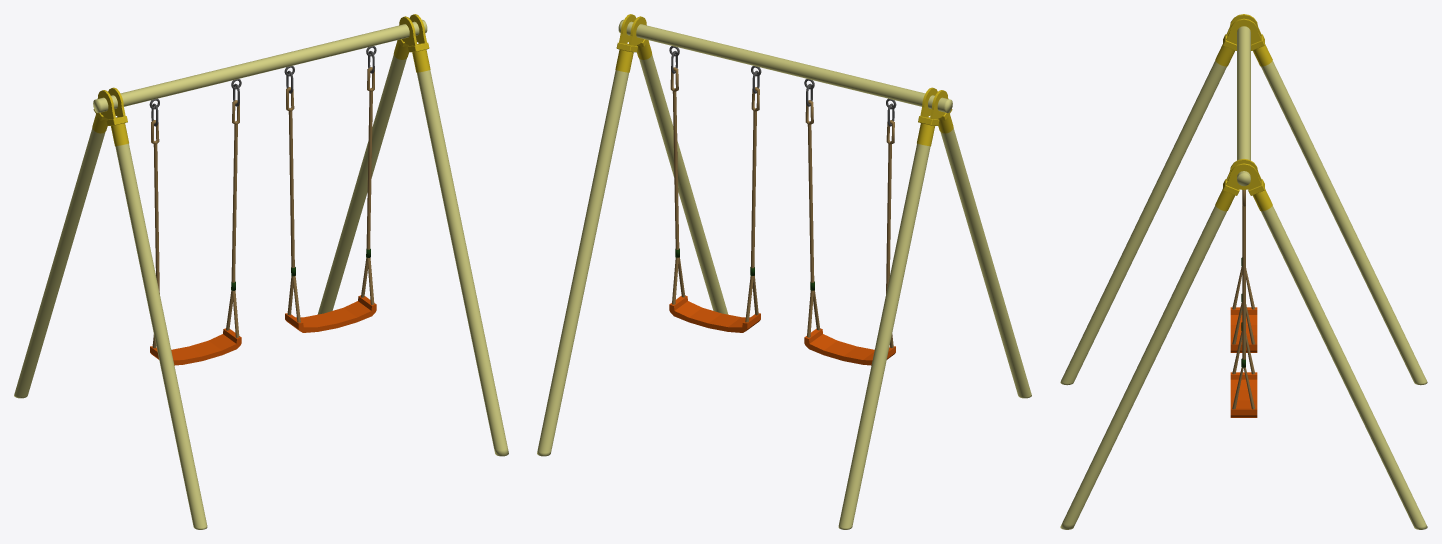
The model's file is swing.obj.
3 renders of one model, left to right at view 1: azimuth 30°, elevation 25°; view 2: azimuth 150°, elevation 25°; view 3: azimuth 270°, elevation 25°, orthographic.
Parts seen in each view (by area): view 1: Cylinder.004_Cylinder.007, Cylinder.001_Cylinder.004, Cylinder.002_Cylinder.005, Cylinder_Cylinder.003, Cylinder.003_Cylinder.006, Cylinder.005_Cylinder.008, Circle.001_Circle.002, Circle.000_Circle.004, Cube.001_Cube.002, Cube_Cube.001; view 2: Cylinder.003_Cylinder.006, Cylinder_Cylinder.003, Cylinder.002_Cylinder.005, Cylinder.001_Cylinder.004, Cylinder.004_Cylinder.007, Cylinder.005_Cylinder.008, Circle.001_Circle.002, Circle.000_Circle.004, Cube.001_Cube.002, Cube_Cube.001; view 3: Cylinder.004_Cylinder.007, Cylinder.003_Cylinder.006, Cylinder.001_Cylinder.004, Cylinder_Cylinder.003, Cylinder.005_Cylinder.008, Cylinder.002_Cylinder.005, Circle.001_Circle.002, Cube.001_Cube.002, Cube_Cube.001, Circle.000_Circle.004.
Boxes of the visible parts, <box> form: Cylinder.004_Cylinder.007: <box>417,70,508,456</box>; Cylinder.001_Cylinder.004: <box>115,143,207,529</box>; Cylinder.002_Cylinder.005: <box>93,19,427,112</box>; Cylinder_Cylinder.003: <box>14,128,105,398</box>; Cylinder.003_Cylinder.006: <box>317,54,406,314</box>; Cylinder.005_Cylinder.008: <box>92,14,430,146</box>; Circle.001_Circle.002: <box>286,67,374,322</box>; Circle.000_Circle.004: <box>151,100,239,348</box>; Cube.001_Cube.002: <box>285,295,376,332</box>; Cube_Cube.001: <box>150,328,241,365</box>; Cylinder.003_Cylinder.006: <box>537,70,628,456</box>; Cylinder_Cylinder.003: <box>838,143,930,529</box>; Cylinder.002_Cylinder.005: <box>618,19,952,112</box>; Cylinder.001_Cylinder.004: <box>940,128,1031,398</box>; Cylinder.004_Cylinder.007: <box>639,54,728,314</box>; Cylinder.005_Cylinder.008: <box>615,14,953,146</box>; Circle.001_Circle.002: <box>670,67,759,322</box>; Circle.000_Circle.004: <box>805,100,894,347</box>; Cube.001_Cube.002: <box>669,295,760,332</box>; Cube_Cube.001: <box>804,328,895,365</box>; Cylinder.004_Cylinder.007: <box>1060,205,1226,529</box>; Cylinder.003_Cylinder.006: <box>1261,205,1427,529</box>; Cylinder.001_Cylinder.004: <box>1060,60,1226,385</box>; Cylinder_Cylinder.003: <box>1261,61,1427,385</box>; Cylinder.005_Cylinder.008: <box>1215,14,1272,211</box>; Cylinder.002_Cylinder.005: <box>1237,26,1250,186</box>; Circle.001_Circle.002: <box>1232,190,1254,409</box>; Cube.001_Cube.002: <box>1230,372,1257,417</box>; Cube_Cube.001: <box>1230,307,1257,352</box>; Circle.000_Circle.004: <box>1232,257,1254,344</box>.
Bounding box in the file's own units: 2.25 × 2.43 × 2.22.
